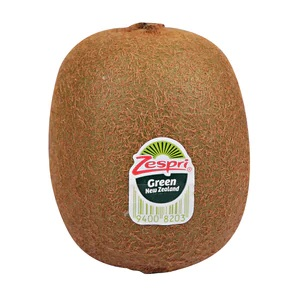kiwi: (48, 23, 250, 275)
